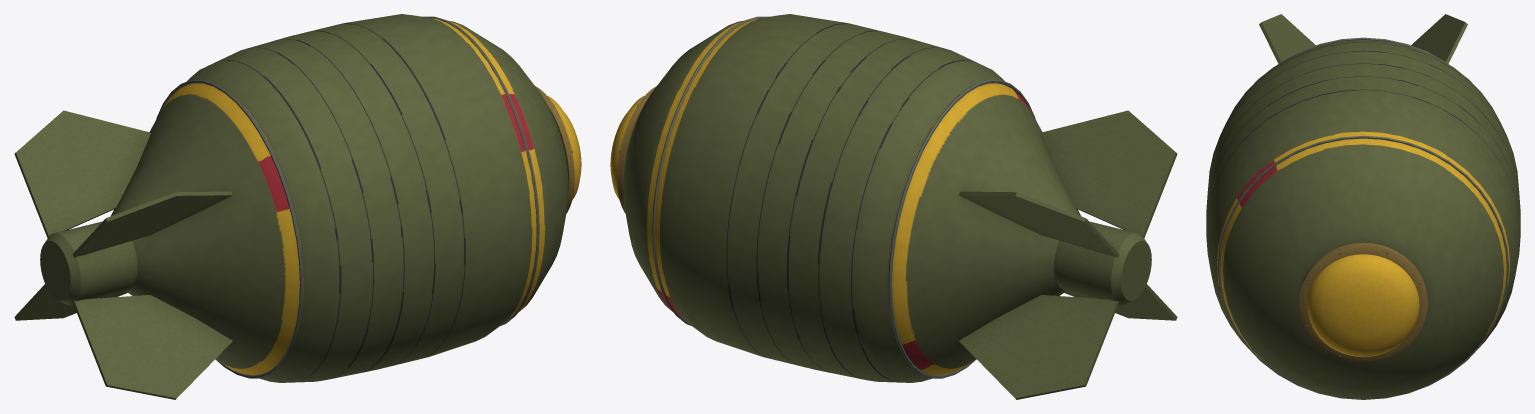
File: bomb.obj
3 views of the same model, side by side, from view 1: azimuth 30°, elevation 25°; view 2: azimuth 150°, elevation 25°; view 3: azimuth 270°, elevation 25° (orthographic). The views are drawn at different scales.
Parts seen in each view (by area): view 1: bomb_MaterialGroup_03, bomb_MaterialGroup_02.002, bomb_MaterialGroup_02.004, bomb_MaterialGroup_02, bomb_MaterialGroup_02.003, Curved_casing_band, bomb_MaterialGroup_02.001, Curved_casing_band.001, bomb_MaterialGroup_01, bomb_MaterialGroup_00; view 2: bomb_MaterialGroup_03, bomb_MaterialGroup_02.001, bomb_MaterialGroup_02.003, bomb_MaterialGroup_02, bomb_MaterialGroup_02.004, Curved_casing_band, bomb_MaterialGroup_02.002, Curved_casing_band.001, bomb_MaterialGroup_01, bomb_MaterialGroup_00; view 3: bomb_MaterialGroup_03, bomb_MaterialGroup_00, bomb_MaterialGroup_01, Curved_casing_band.001, bomb_MaterialGroup_02.003, bomb_MaterialGroup_02.004, Curved_casing_band.
Part boxes in pixels (box(x1,y1,x2,y2)): bomb_MaterialGroup_03: box(110, 14, 568, 382); bomb_MaterialGroup_02.002: box(72, 295, 232, 399); bomb_MaterialGroup_02.004: box(14, 110, 150, 238); bomb_MaterialGroup_02: box(40, 221, 137, 304); bomb_MaterialGroup_02.003: box(72, 191, 232, 257); Curved_casing_band: box(156, 79, 303, 378); bomb_MaterialGroup_02.001: box(14, 284, 127, 320); Curved_casing_band.001: box(423, 16, 539, 325); bomb_MaterialGroup_01: box(535, 86, 574, 213); bomb_MaterialGroup_00: box(547, 95, 581, 199); bomb_MaterialGroup_03: box(623, 14, 1081, 382); bomb_MaterialGroup_02.001: box(959, 295, 1119, 399); bomb_MaterialGroup_02.003: box(1041, 110, 1177, 238); bomb_MaterialGroup_02: box(1054, 221, 1151, 304); bomb_MaterialGroup_02.004: box(959, 191, 1119, 257); Curved_casing_band: box(888, 79, 1035, 378); bomb_MaterialGroup_02.002: box(1064, 284, 1177, 320); Curved_casing_band.001: box(652, 16, 768, 325); bomb_MaterialGroup_01: box(617, 86, 656, 213); bomb_MaterialGroup_00: box(610, 95, 644, 199); bomb_MaterialGroup_03: box(1206, 39, 1520, 399); bomb_MaterialGroup_00: box(1307, 254, 1419, 356); bomb_MaterialGroup_01: box(1299, 242, 1427, 362); Curved_casing_band.001: box(1217, 135, 1509, 399); bomb_MaterialGroup_02.003: box(1259, 14, 1315, 63); bomb_MaterialGroup_02.004: box(1411, 14, 1467, 63); Curved_casing_band: box(1279, 37, 1447, 63).
Size of the model in its own units: 2.87 by 1.68 by 1.68.
Materials: 1 (1 with a texture image).
